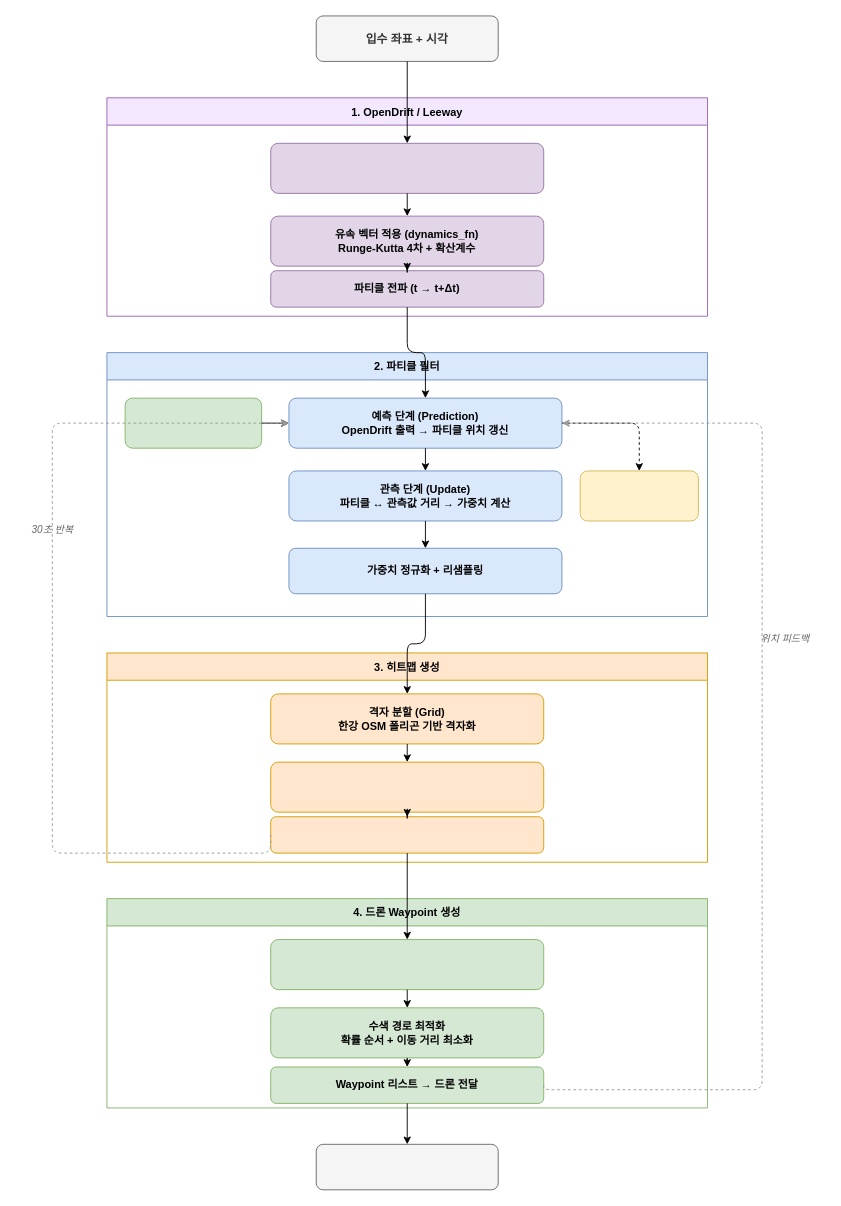
Some shapes in this 841 by 1206 pixel diagram are drawn without their labels. The centre of each missing label's shape, as x and y in pixels:
"격자별 확률 계산 파티클 밀도 → 확률값 정규화 (0~100%)" belongs at (x=407, y=786).
"구역 확률 내림차순 정렬 임계값 (0.5%) 이상 구역 필터링" belongs at (x=407, y=964).
"드론 수색 실행" belongs at (x=406, y=1166).
"센서 관측값 열화상 / 광학 카메라" belongs at (x=193, y=422).
"센서 미감지 가중치 유지" belongs at (x=638, y=495).
"파티클 초기화 입수 좌표 중심, N=500, 반경 10m" belongs at (x=407, y=167).
"확률 히트맵 출력" belongs at (x=407, y=834).
